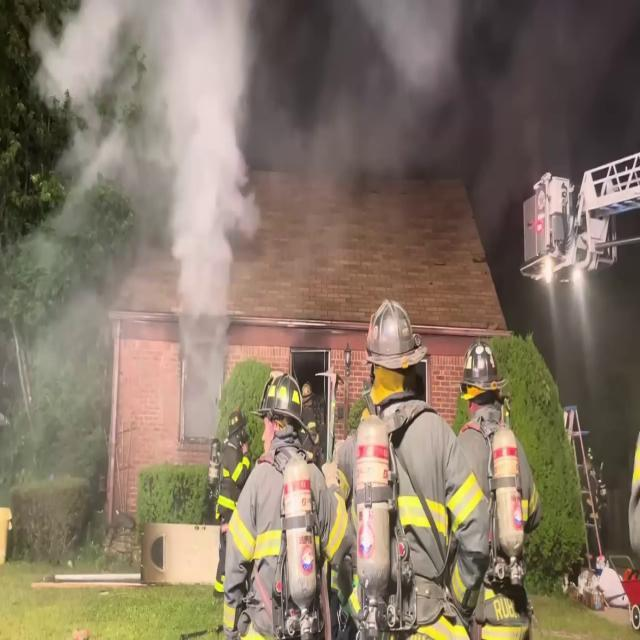Smoke: (15, 0, 267, 387), (280, 0, 631, 206)
